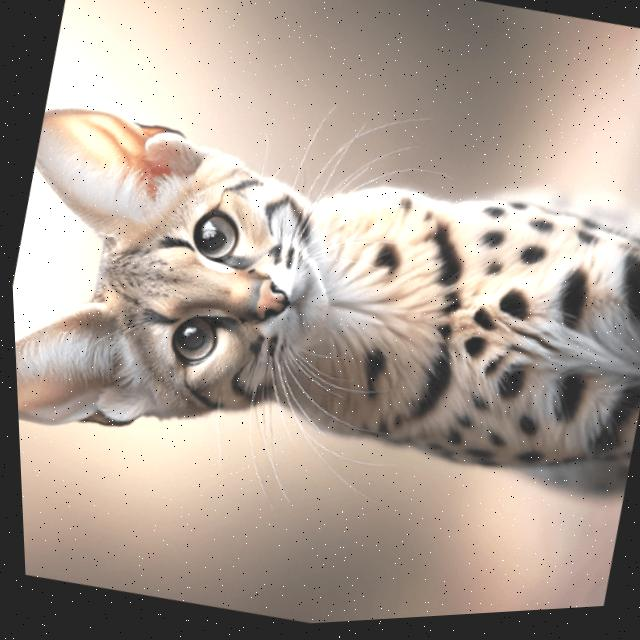Savannah: (3, 65, 640, 562)
